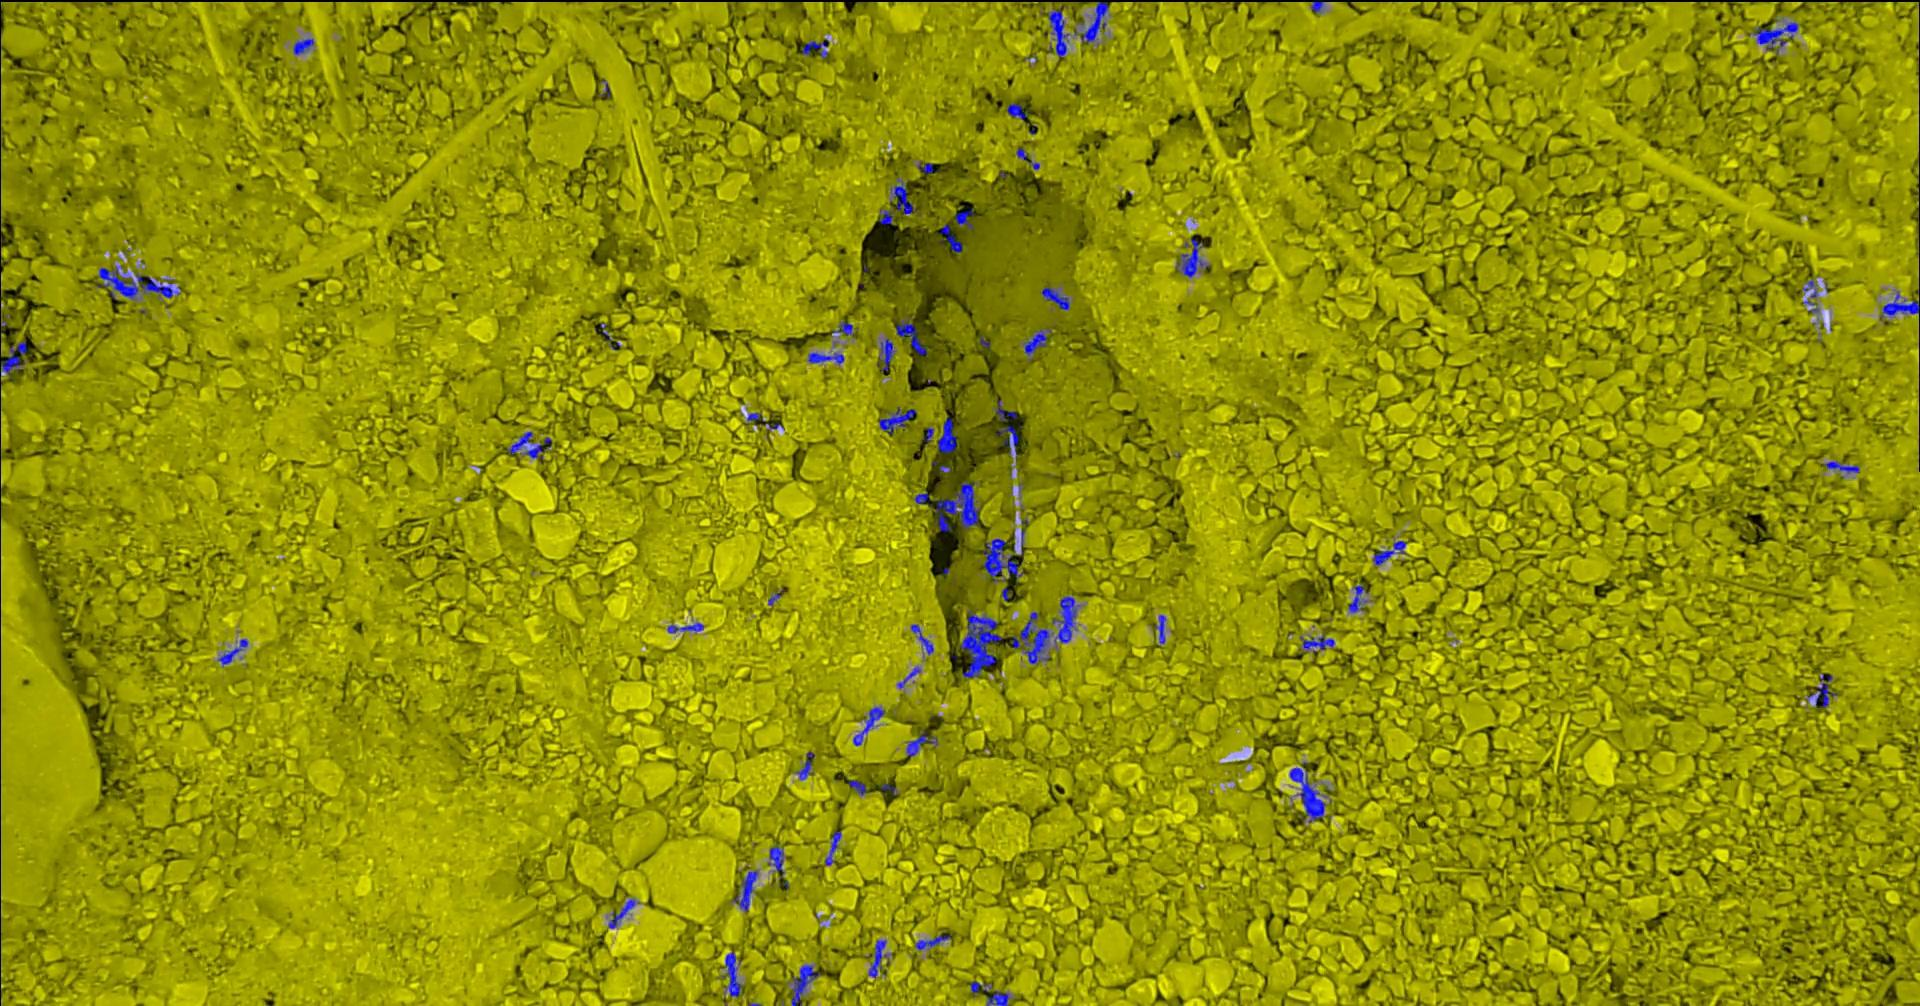ant: (95, 264, 180, 298), (1289, 767, 1324, 822), (982, 539, 1023, 580), (1175, 238, 1208, 277), (1752, 22, 1798, 50), (1079, 0, 1109, 43), (852, 706, 884, 746), (790, 964, 819, 1005), (1879, 291, 1919, 320), (895, 318, 926, 354), (731, 870, 758, 911), (877, 406, 916, 434), (507, 431, 545, 459), (890, 180, 921, 215), (1807, 672, 1836, 708), (1048, 8, 1068, 57), (0, 340, 25, 377), (1023, 326, 1051, 359), (1371, 540, 1406, 565), (217, 638, 248, 666), (607, 898, 635, 929), (724, 951, 743, 996), (905, 730, 937, 756), (936, 417, 956, 452), (910, 624, 933, 654), (869, 939, 886, 977), (938, 224, 963, 251), (996, 426, 1018, 455), (1041, 286, 1069, 309), (1299, 635, 1335, 652), (824, 829, 841, 865), (801, 38, 829, 58), (1802, 279, 1818, 312), (1347, 586, 1368, 612), (914, 934, 950, 949), (877, 338, 894, 370), (767, 845, 783, 876), (897, 666, 919, 688), (1015, 147, 1039, 169), (795, 751, 813, 779), (994, 399, 1016, 420), (808, 352, 843, 365), (1823, 460, 1859, 473), (832, 320, 857, 337), (665, 622, 703, 633), (985, 989, 1010, 1005), (954, 210, 973, 229), (292, 38, 312, 55), (1006, 103, 1026, 119), (969, 981, 990, 996), (1154, 614, 1164, 643), (848, 779, 866, 795), (744, 412, 764, 426), (914, 492, 931, 506), (921, 427, 933, 445), (879, 208, 893, 224), (917, 161, 933, 173), (1310, 0, 1323, 13)
